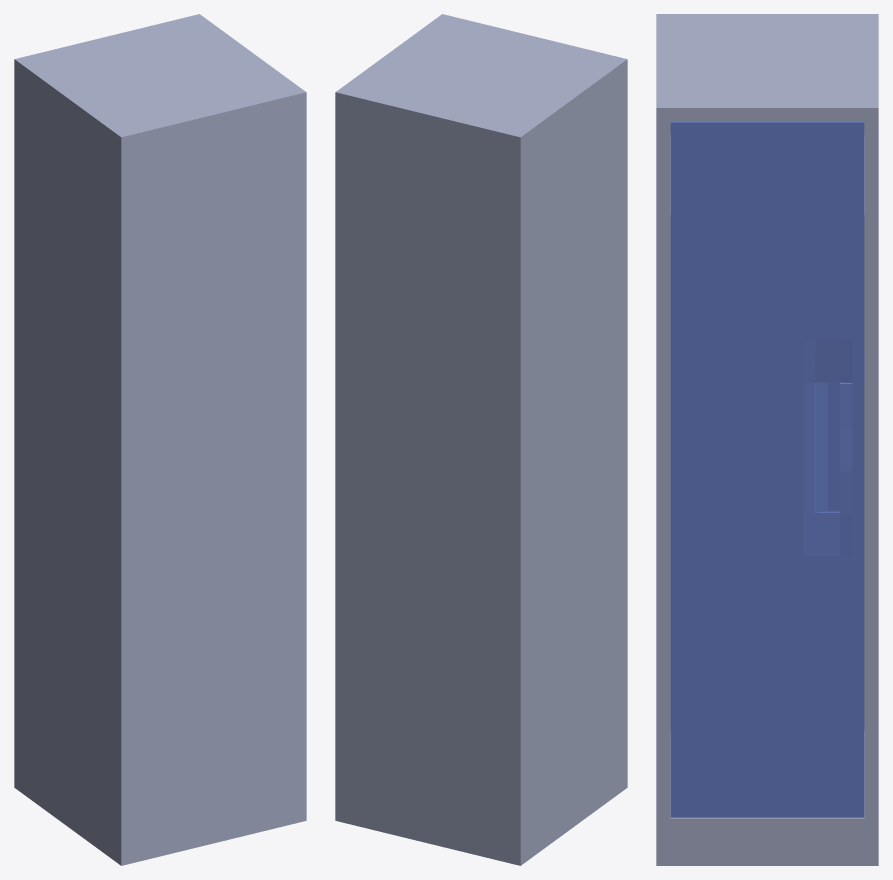
File: Locker.blend-1.fbx
3 renders of one model, left to right at view 1: azimuth 30°, elevation 25°; view 2: azimuth 150°, elevation 25°; view 3: azimuth 270°, elevation 25°, orthographic. The views are drawn at different scales.
Visible parts, largest first — view 1: locker; view 2: locker; view 3: door, locker.
Part boxes in pixels (box(x1,y1,x2,y2)): locker: box(14, 14, 306, 865); locker: box(335, 14, 627, 865); door: box(670, 122, 864, 817); locker: box(656, 14, 878, 865).
Bounding box in the file's own units: 203 × 752 × 200.
